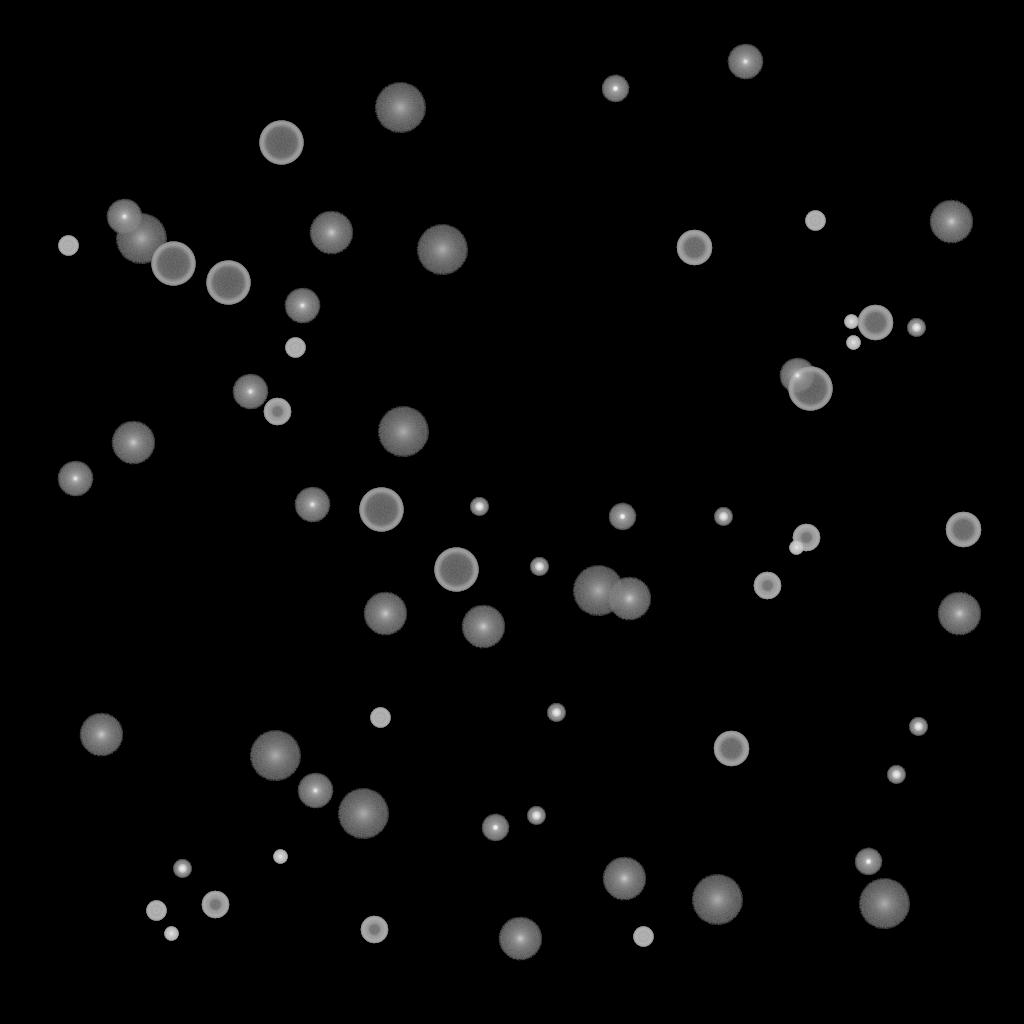depth:-10: (608, 503, 636, 531), (481, 814, 509, 842), (601, 75, 629, 103), (854, 848, 882, 876)
depth:-20: (909, 718, 927, 736), (530, 558, 548, 576), (907, 319, 925, 337), (470, 498, 488, 516), (547, 704, 565, 722), (527, 807, 545, 825), (887, 766, 905, 784), (173, 860, 191, 878), (714, 508, 732, 526)
depth:-30: (789, 541, 803, 555), (273, 850, 287, 864), (846, 336, 860, 350), (164, 927, 178, 941), (844, 315, 858, 329)
depth:-40: (370, 708, 390, 728), (146, 901, 166, 921), (285, 338, 305, 358), (633, 927, 653, 947), (805, 211, 825, 231), (58, 236, 78, 256)
depth:-50: (263, 398, 291, 426), (360, 916, 388, 944), (792, 524, 820, 552), (201, 891, 229, 919), (753, 572, 781, 600)
depth:-60: (713, 731, 749, 767), (945, 512, 981, 548), (857, 305, 893, 341), (676, 230, 712, 266)
depth:-70: (206, 261, 250, 305), (788, 367, 832, 411), (434, 548, 478, 592), (359, 488, 403, 532), (151, 242, 195, 286), (259, 121, 303, 165)
depth:0: (297, 773, 333, 809), (294, 487, 330, 523), (284, 288, 320, 324), (232, 374, 268, 410), (106, 199, 142, 235), (779, 358, 815, 394), (57, 461, 93, 497), (727, 44, 763, 80)
depth:10: (929, 200, 973, 244), (607, 577, 651, 621), (937, 592, 981, 636), (602, 857, 646, 901), (111, 421, 155, 465), (461, 605, 505, 649), (363, 592, 407, 636), (498, 917, 542, 961), (309, 211, 353, 255), (79, 713, 123, 757)
depth:20: (691, 875, 743, 925), (377, 407, 429, 457), (337, 789, 389, 839), (249, 731, 301, 781), (115, 214, 167, 264), (416, 225, 468, 275), (572, 566, 624, 616), (374, 83, 426, 133), (858, 879, 910, 929)
